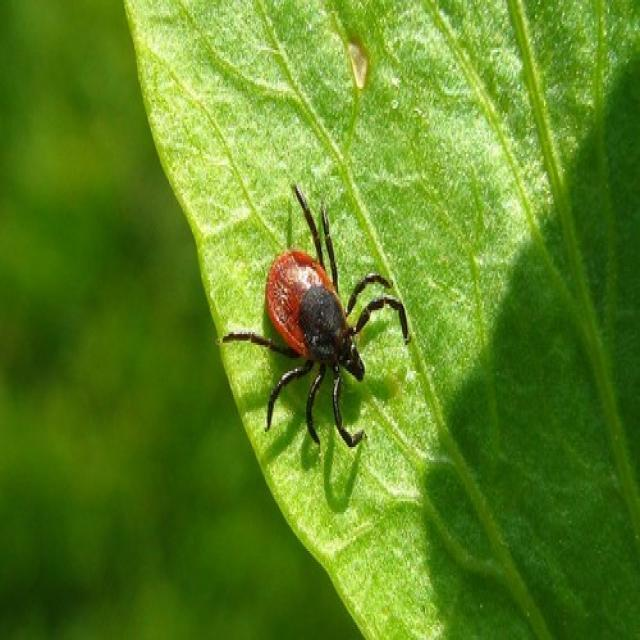Ixodes Ricinus-F: (219, 184, 410, 449)
